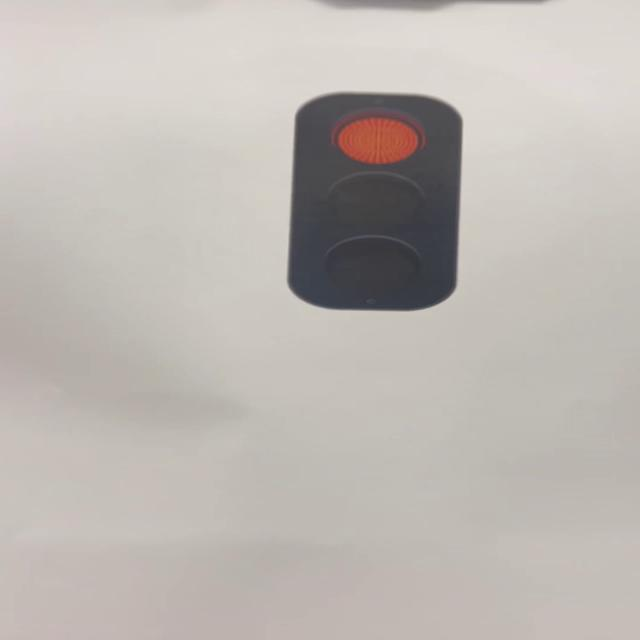red: (291, 93, 460, 312)
